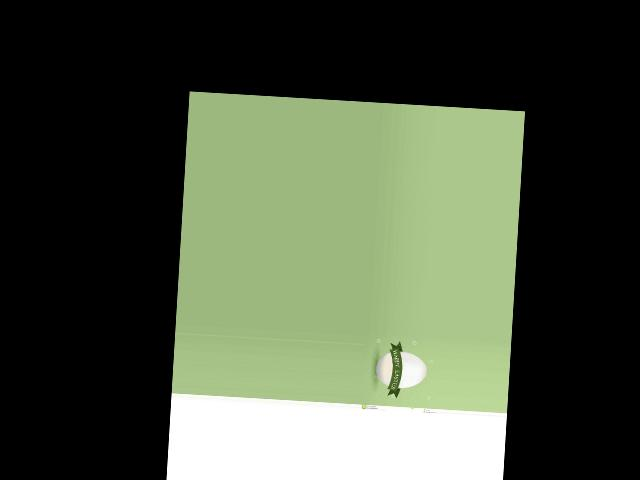egg: (374, 351, 427, 390)
